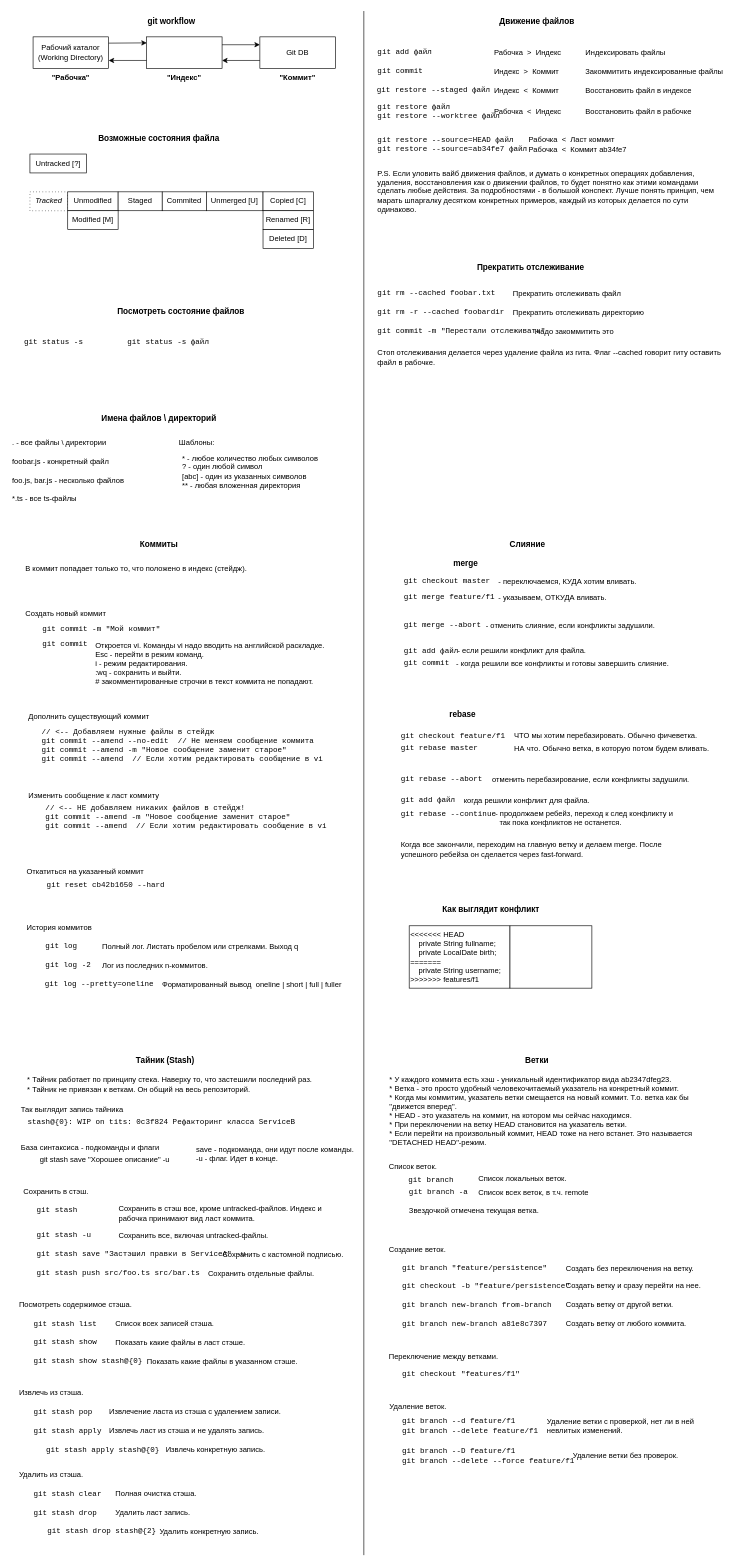
The diagram is 740 pixels wide and 1567 high, and some of its shapes have lost their labels. Each missing label, with the centre of its shape:
"<<<<<<< HEAD оригинал ======= то что хотим влить >>>>>>> features/f1" goes at point (550, 956).
"Stage (Index)" goes at point (184, 52).
